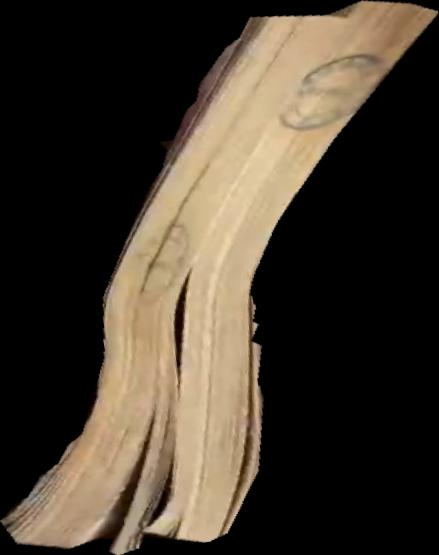backward: (1, 1, 439, 555)
